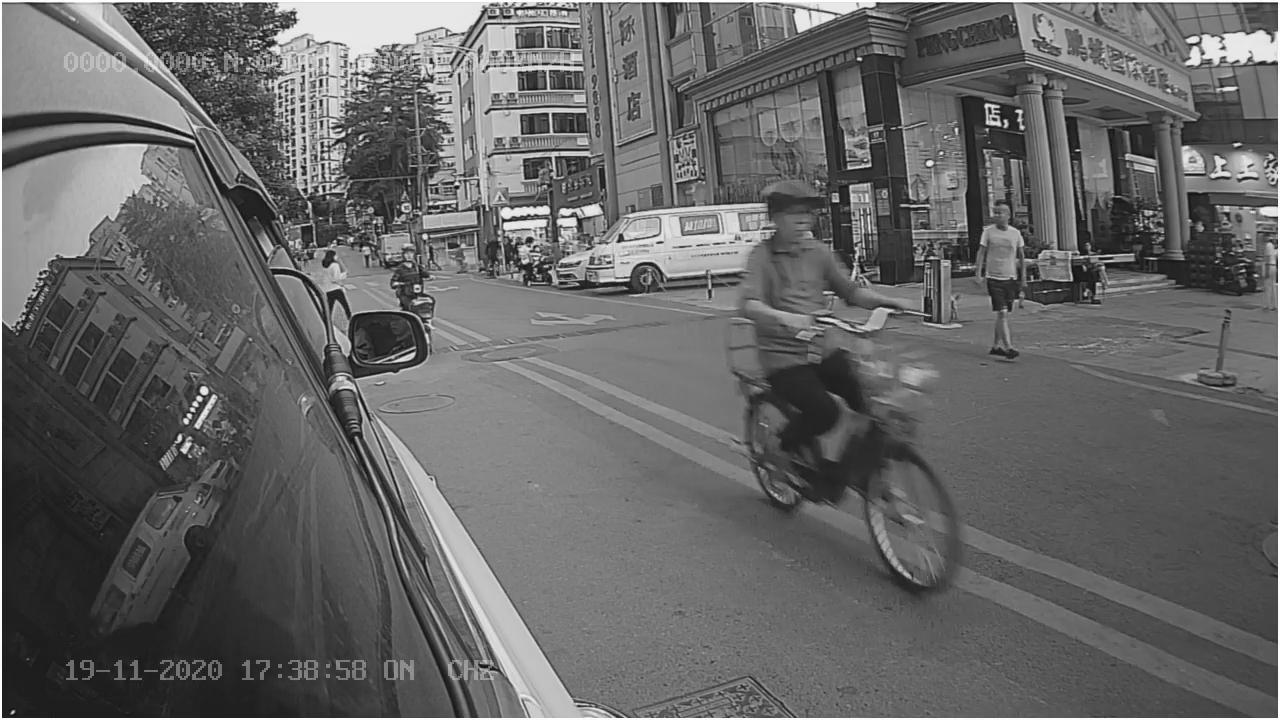person: (738, 182, 876, 364), (965, 192, 1036, 370)
